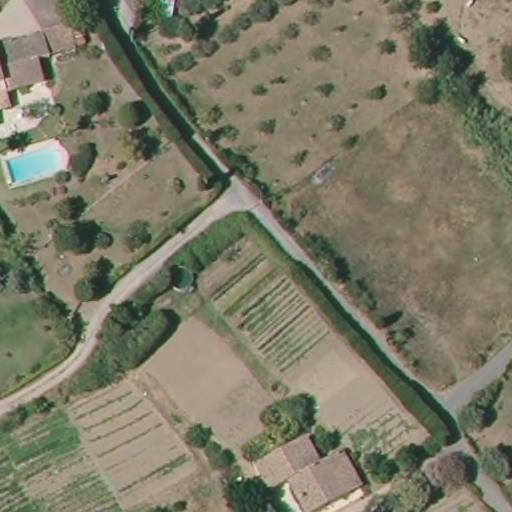pool: (1, 142, 69, 190)
